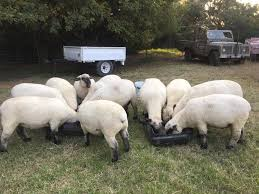sheep: (1, 94, 84, 141), (168, 97, 247, 146), (79, 94, 131, 163), (35, 68, 89, 108), (7, 81, 60, 117), (137, 72, 168, 125), (87, 74, 134, 107), (184, 77, 237, 106), (167, 71, 191, 114), (67, 65, 98, 93)
